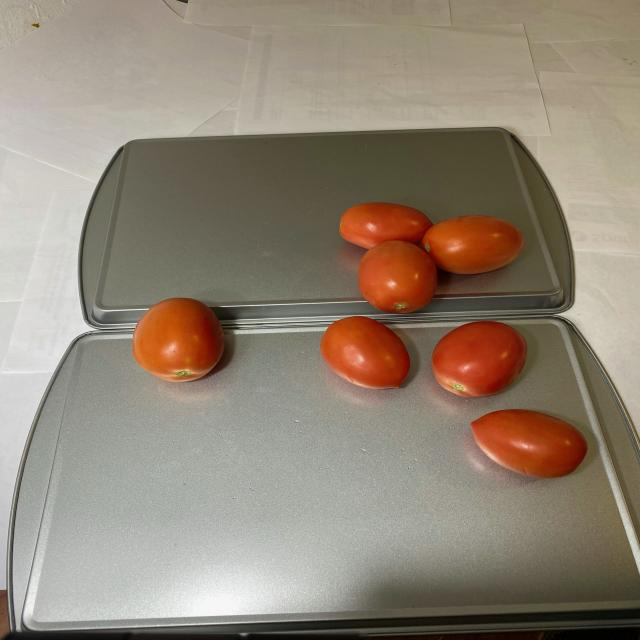tomato: (329, 200, 595, 490), (130, 294, 230, 386)
